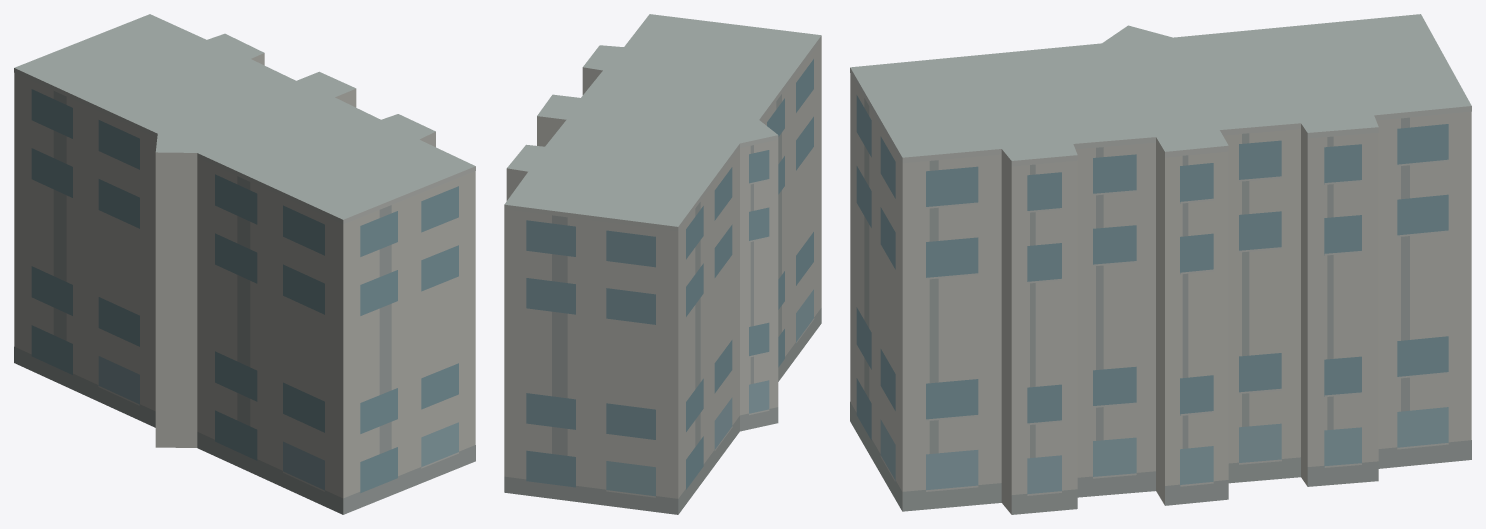
File: survey-upis-32852467.glb
3 renders of one model, left to right at view 1: azimuth 30°, elevation 25°; view 2: azimuth 150°, elevation 25°; view 3: azimuth 270°, elevation 25°, orthographic. The views are drawn at different scales.
Parts seen in each view (by area): view 1: survey-upis-32852467.tmp; view 2: survey-upis-32852467.tmp; view 3: survey-upis-32852467.tmp.
Part boxes in pixels (x1,y1,x2,y2): survey-upis-32852467.tmp: (14, 14, 475, 514); survey-upis-32852467.tmp: (504, 14, 821, 514); survey-upis-32852467.tmp: (850, 14, 1471, 514).
Bounding box in the file's own units: 13.59 × 15.25 × 24.29.
